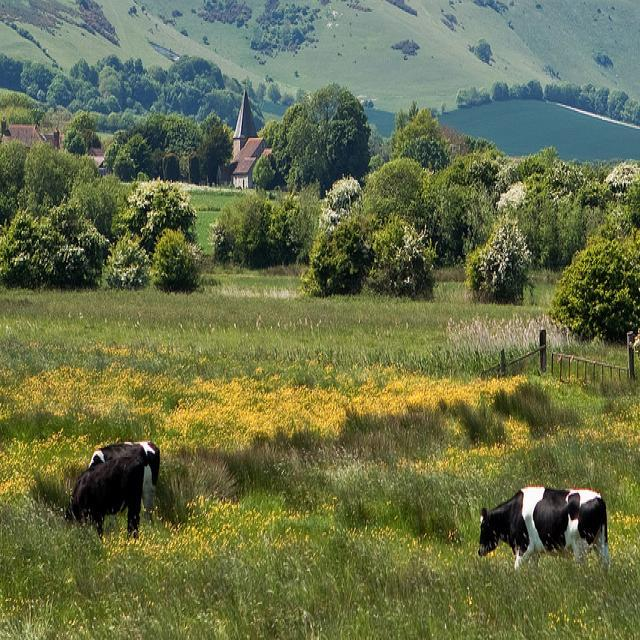cow: (476, 484, 609, 567), (66, 436, 161, 538)
